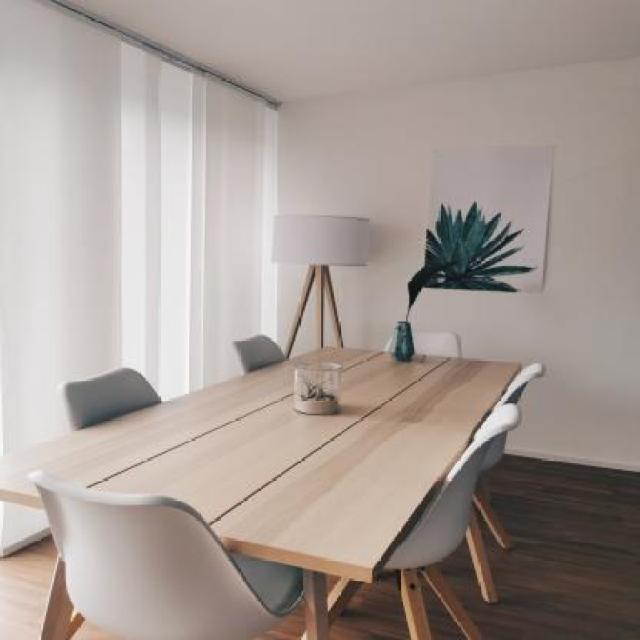floor: (438, 456, 640, 640), (2, 499, 68, 640)
